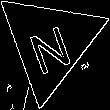N_N: (23, 12, 77, 73)
